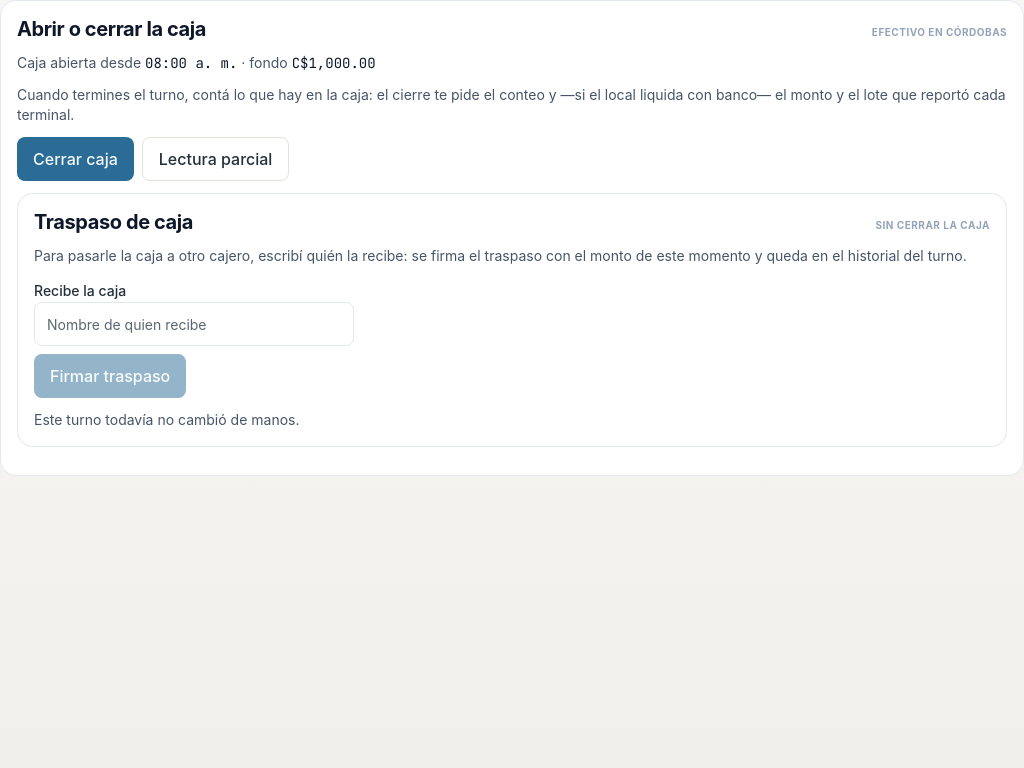
it: CashTurnSection › con arqueo ciego y sin permiso de auditoría, el cajero no ve lo cobrado ni la diferencia
The width and height of the screenshot is (1024, 768).
Expected: the text "Caja abierta desde 08:00 a. m. · fondo C$1,000.00" is shown, [17, 54, 376, 72]
Click the button "Cerrar caja". click: (75, 159)
box: [17, 137, 134, 181]
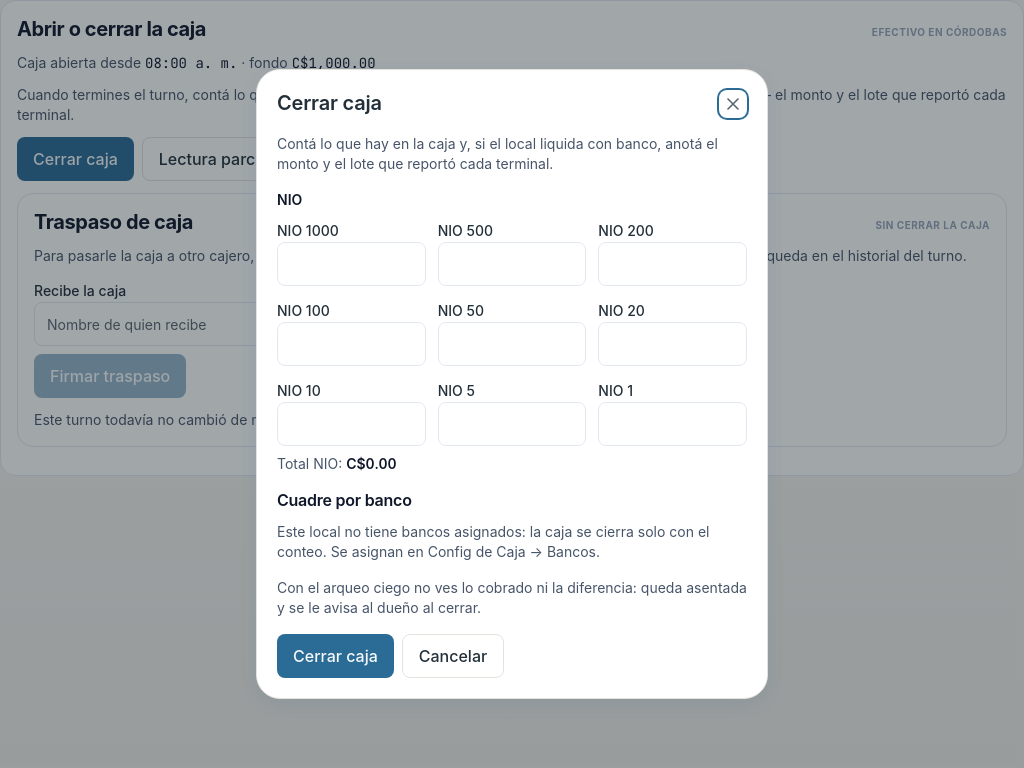
Expected: the text "Con el arqueo ciego no ves lo cobrado" is shown, [277, 579, 747, 616]
